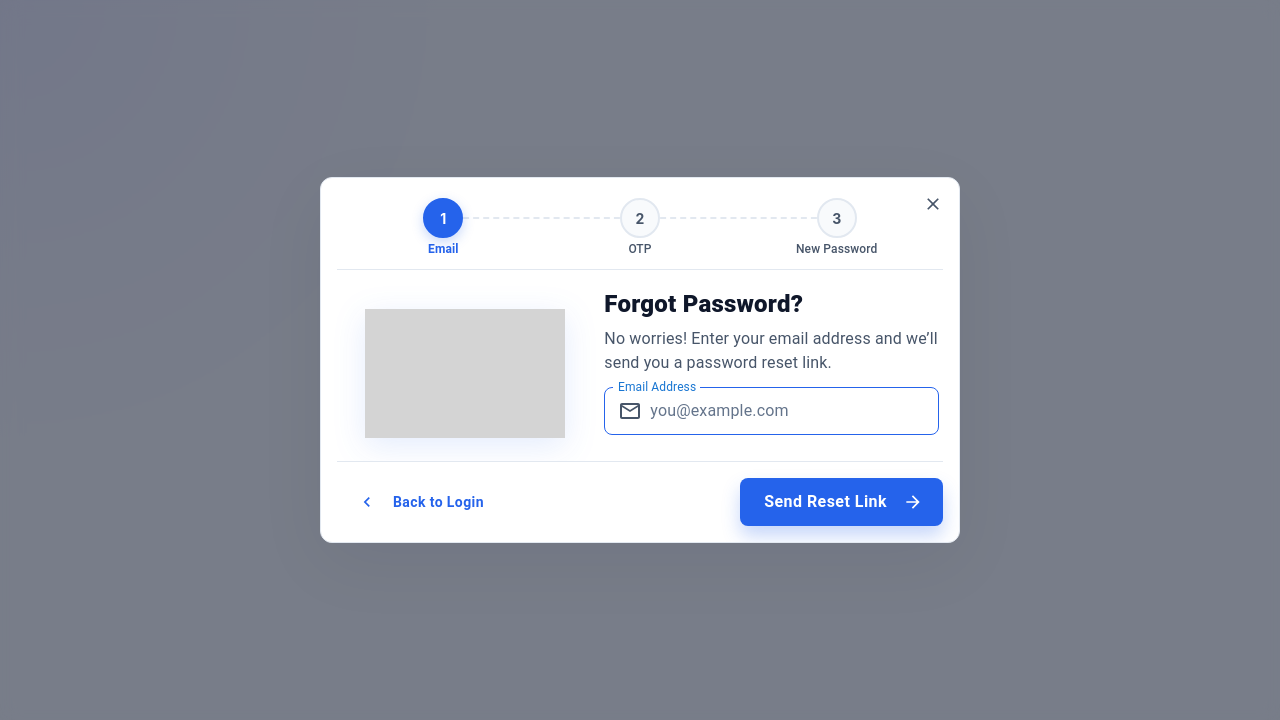
Test case: ForgotPasswordDialog › shows OTP validation when the code is incomplete
The width and height of the screenshot is (1280, 720).
In the field labelled "Email Address": [795, 411] box top-left (650, 399), bottom-right (939, 422), type "user@example.com"
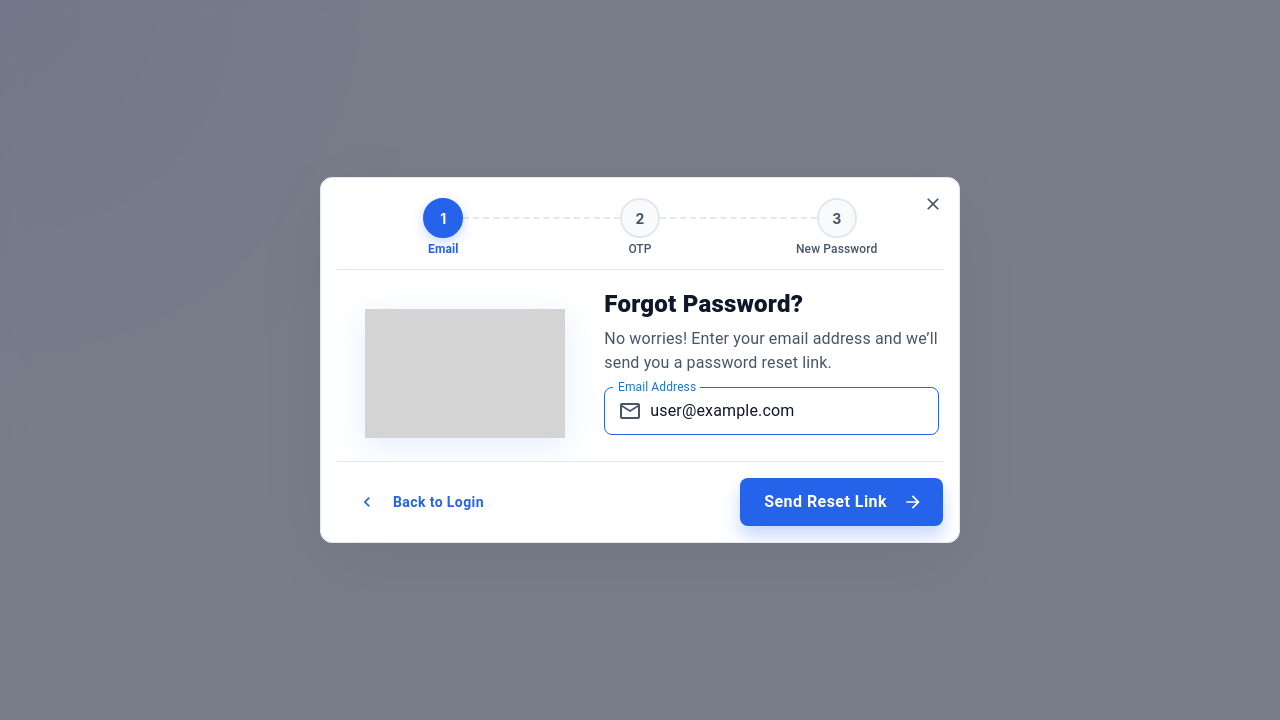
Click the button "Send Reset Link": [842, 502] box top-left (740, 478), bottom-right (943, 526)
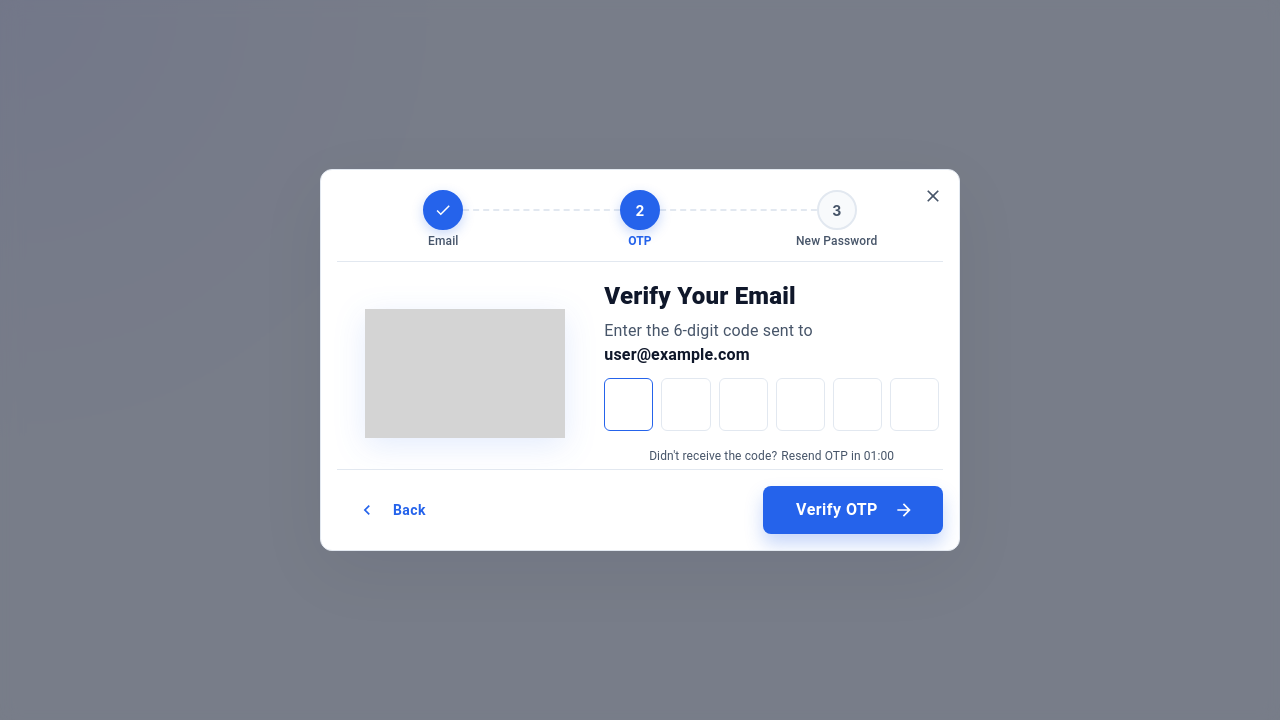
Expected: the heading "Verify Your Email" is shown, top-left (604, 282), bottom-right (796, 310)
Click the button "Verify OTP": [853, 510] box top-left (763, 486), bottom-right (943, 534)
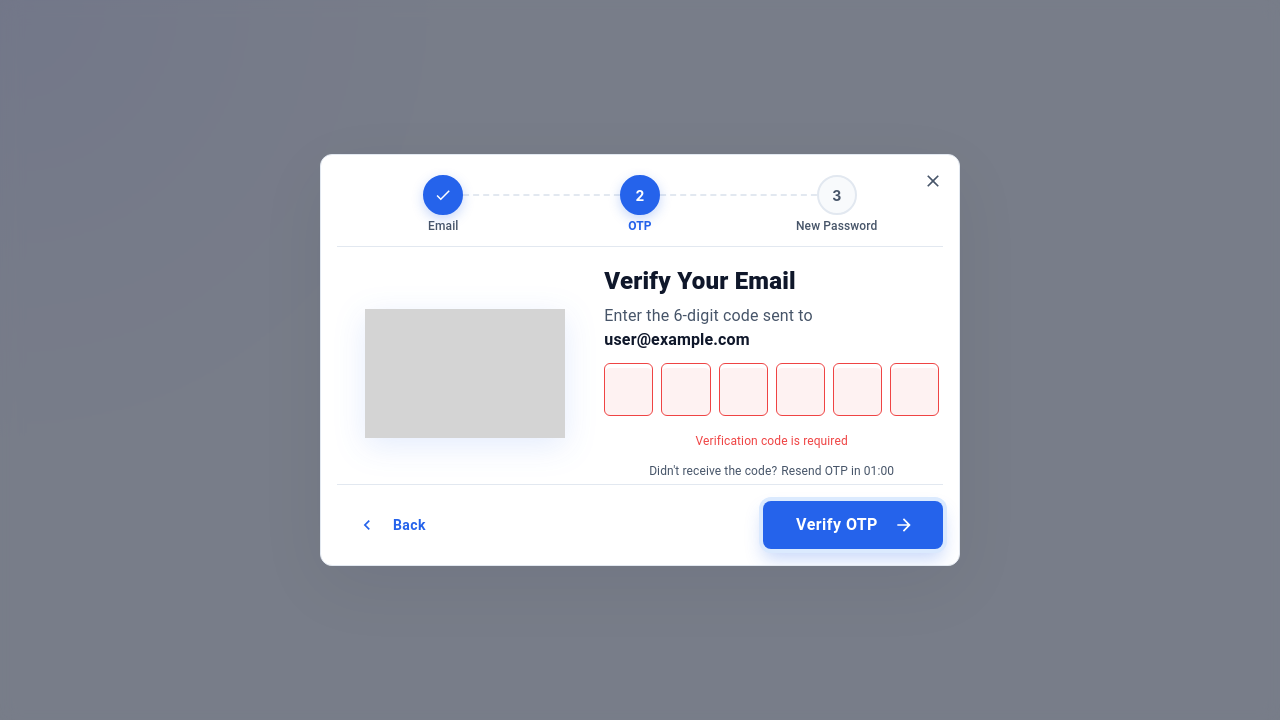
Expected: the heading "Verify Your Email" is shown, top-left (604, 267), bottom-right (796, 295)
Expected: the text "Verification code is required" is shown, top-left (696, 434), bottom-right (848, 448)
